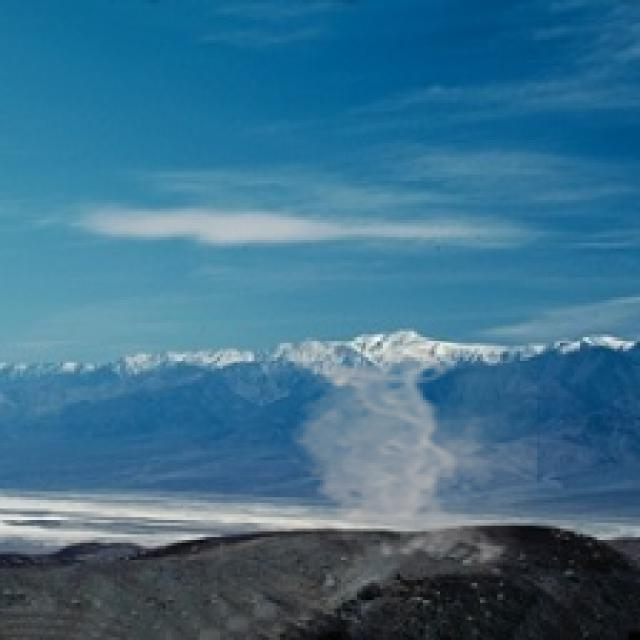Smoke: (286, 343, 538, 571)
